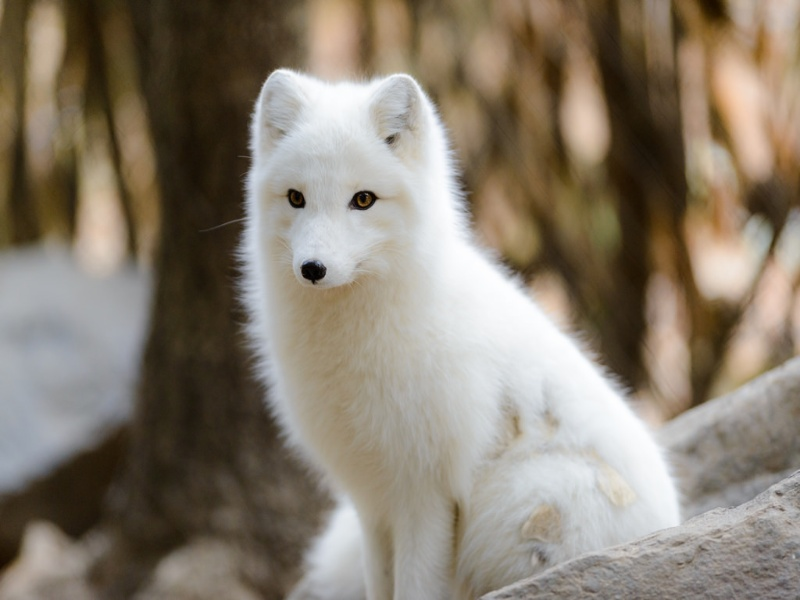fox: (232, 68, 694, 583)
